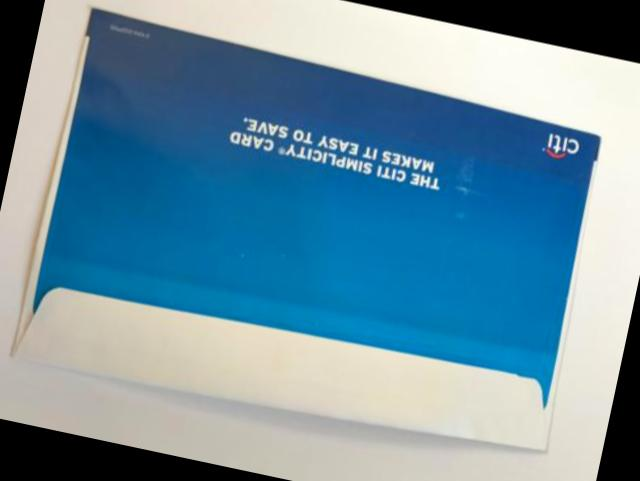cardboard paper: (15, 11, 600, 450)
